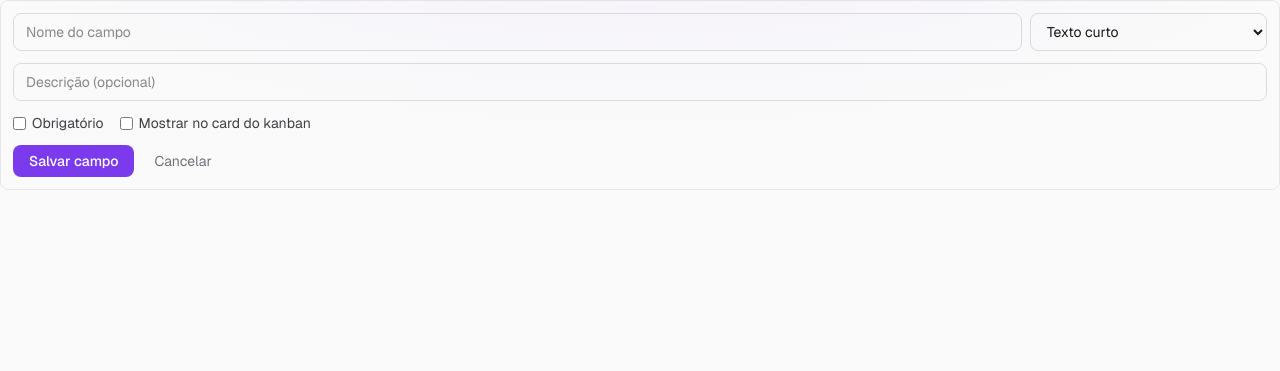
FieldForm — Fórmula › oferece os campos numéricos, avisa erro e trava o salvar
The image size is (1280, 371).
Select "Fórmula (conta entre campos)" in the dropdown: (1148, 32) x1=1030 y1=13 x2=1267 y2=51
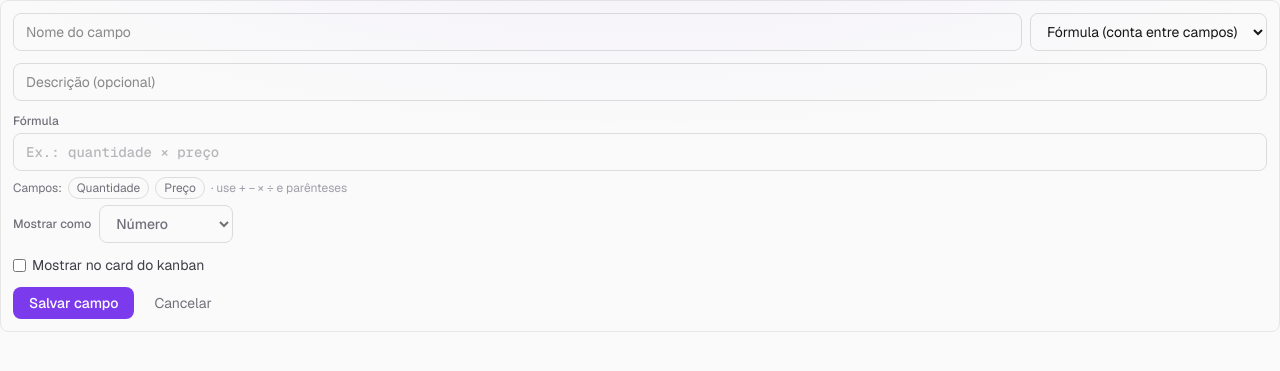
Now the button "Quantidade" is shown
Click the button "Quantidade": (108, 188) x1=68 y1=177 x2=149 y2=199
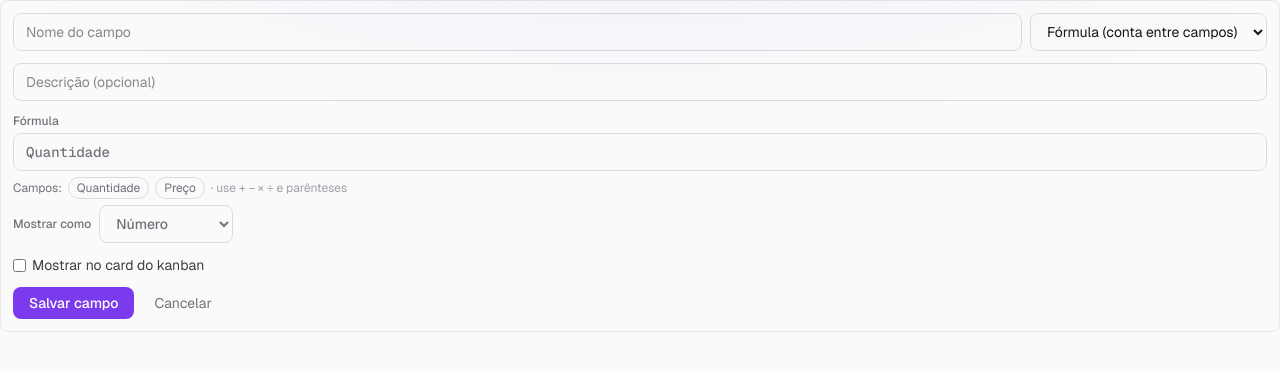
Now the field labelled "Fórmula" holds "Quantidade"
Replace the text in the field labelled "Fórmula" with "Quantidade * frete": (640, 152) x1=13 y1=133 x2=1267 y2=171
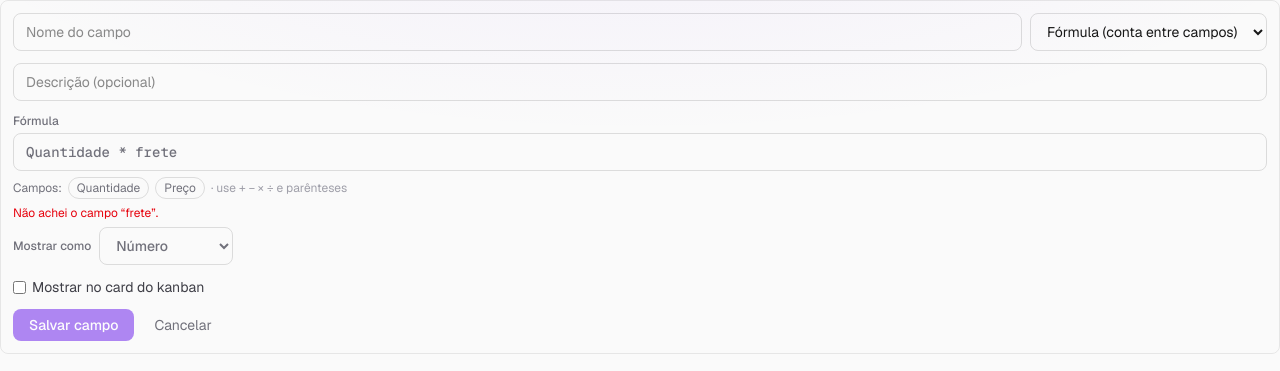
Now the message reads "Não achei o campo “frete”.", box x1=13 y1=205 x2=158 y2=221
Now the button "Salvar campo" is disabled, box x1=13 y1=309 x2=134 y2=341
Replace the text in the field labelled "Fórmula" with "Quantidade × Preço": (640, 152) x1=13 y1=133 x2=1267 y2=171
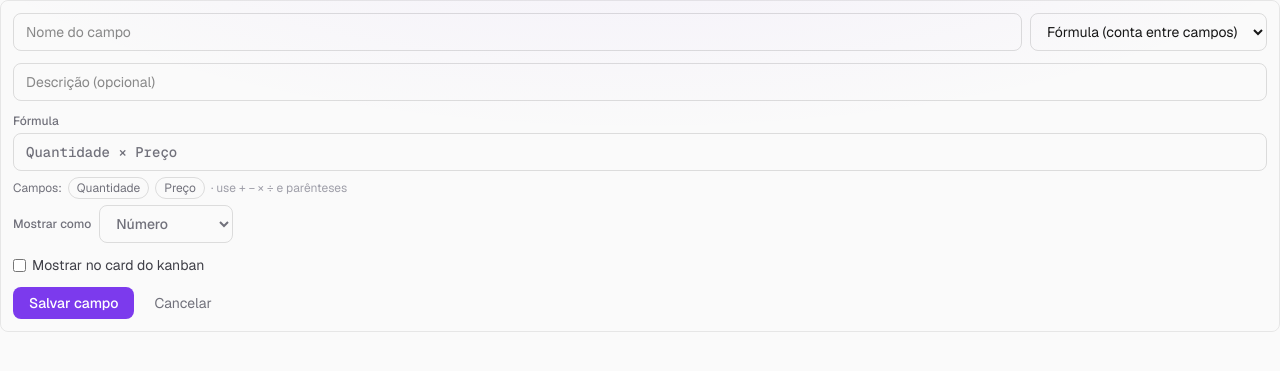
Expected: the text "Obrigatório" is not shown
Now the message "Não achei o campo “frete”." is gone
Now the button "Salvar campo" is enabled, box x1=13 y1=287 x2=134 y2=319
